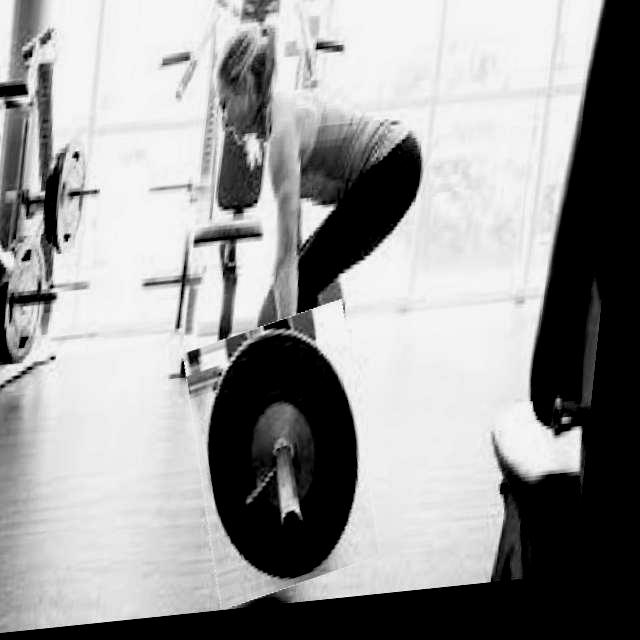barbell: (187, 312, 399, 612)
